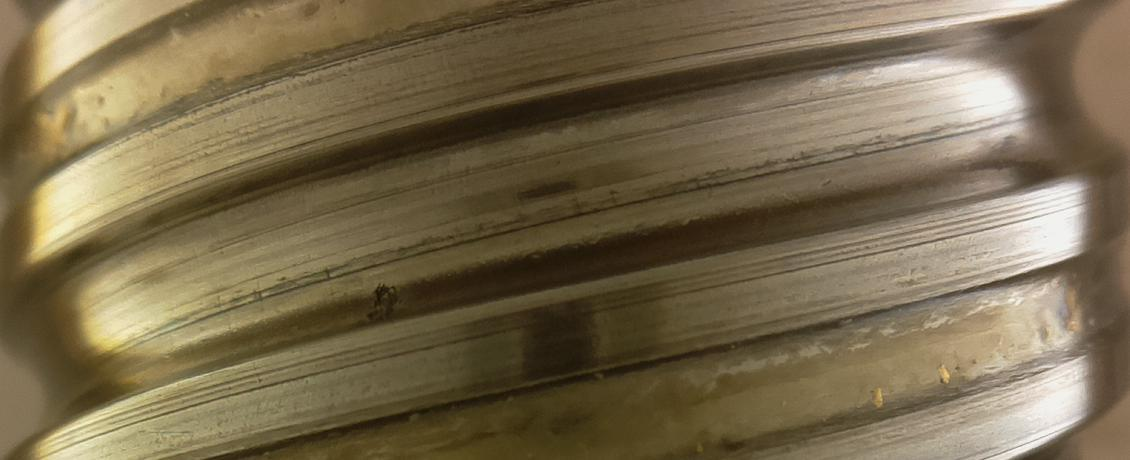pitting: (365, 283, 398, 322)
